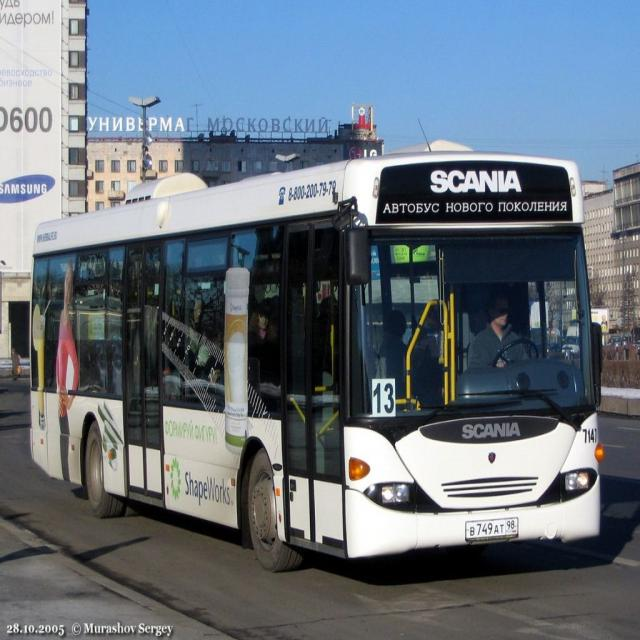number-of-bus: (373, 381, 396, 416)
